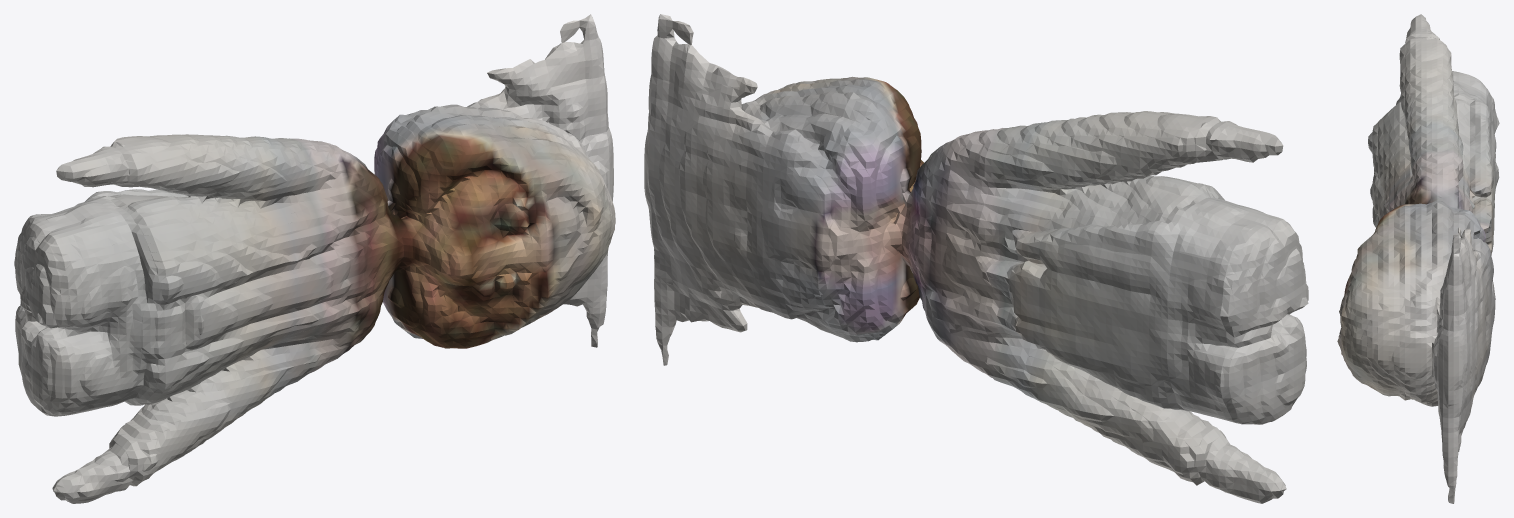
The picture shows the model from 3 angles, left to right: view 1: azimuth 30°, elevation 25°; view 2: azimuth 150°, elevation 25°; view 3: azimuth 270°, elevation 25°; orthographic projection. The views are drawn at different scales.
Visible parts, largest first — view 1: world; view 2: world; view 3: world.
Boxes of the visible parts, x1=… form: world: x1=14, y1=14, x2=615, y2=503; world: x1=644, y1=14, x2=1308, y2=503; world: x1=1337, y1=14, x2=1499, y2=503.
Bounding box in the file's own units: 0.9405 × 0.5206 × 0.273.
